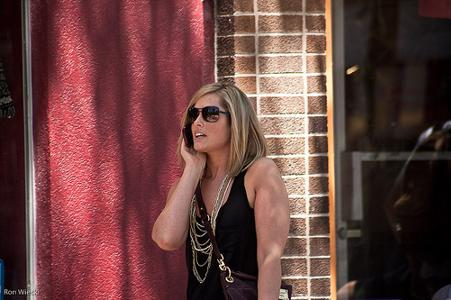person: (153, 81, 292, 300)
